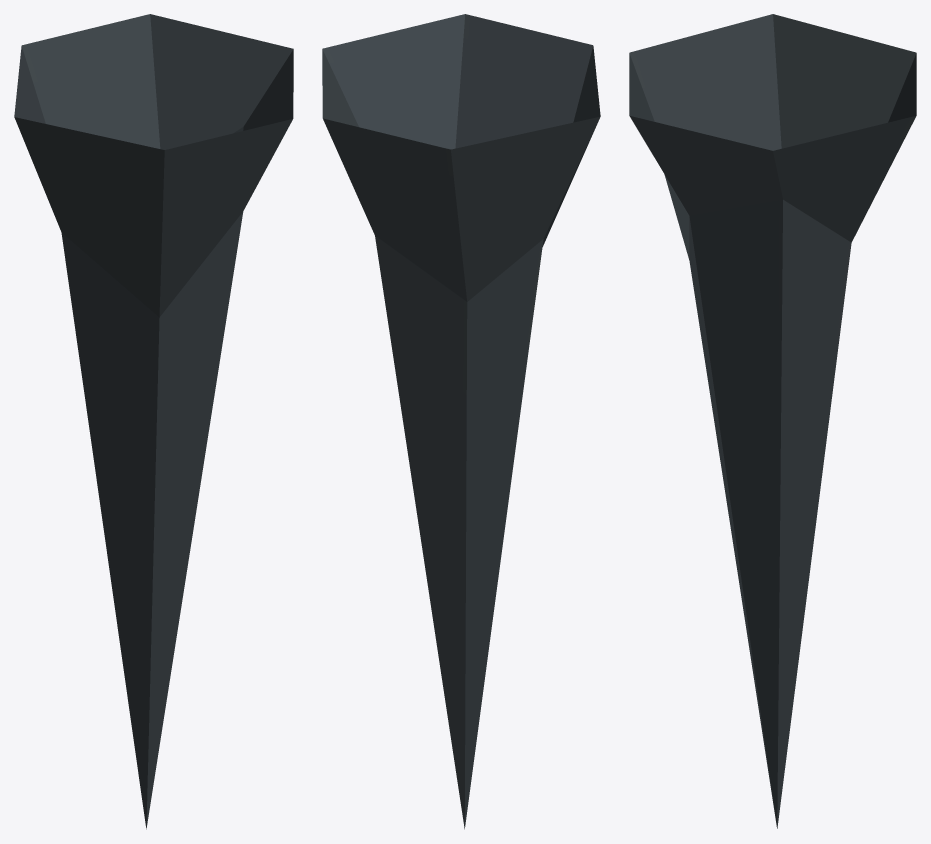
The model's file is Stalacmite-B08.fbx.
The picture shows the model from 3 angles, left to right: view 1: azimuth 30°, elevation 25°; view 2: azimuth 150°, elevation 25°; view 3: azimuth 270°, elevation 25°; orthographic projection.
Parts seen in each view (by area): view 1: Stalacmite-B08; view 2: Stalacmite-B08; view 3: Stalacmite-B08.
Part boxes in pixels (x1,y1,x2,y2): Stalacmite-B08: [14, 14, 293, 829]; Stalacmite-B08: [322, 14, 600, 829]; Stalacmite-B08: [629, 14, 916, 828].
Size of the model in its own units: 64.15 by 164 by 56.91.
